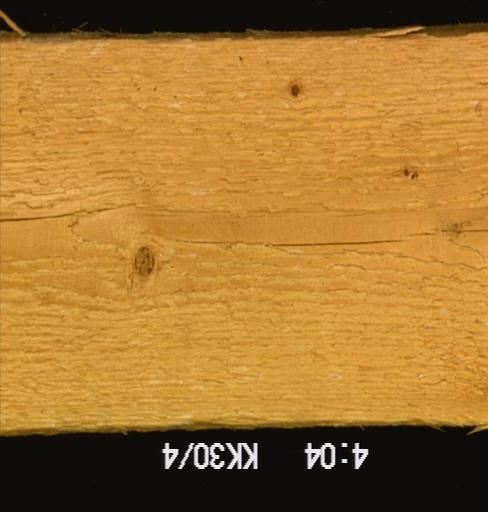small_knot: (399, 161, 423, 187), (285, 79, 304, 101)
split: (157, 224, 486, 251), (0, 196, 139, 225), (128, 242, 159, 283)
